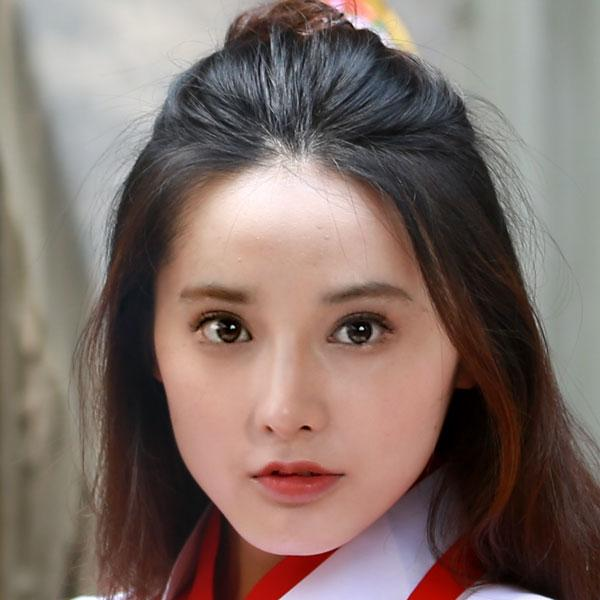Eyes: (317, 302, 401, 356), (185, 300, 261, 357)
